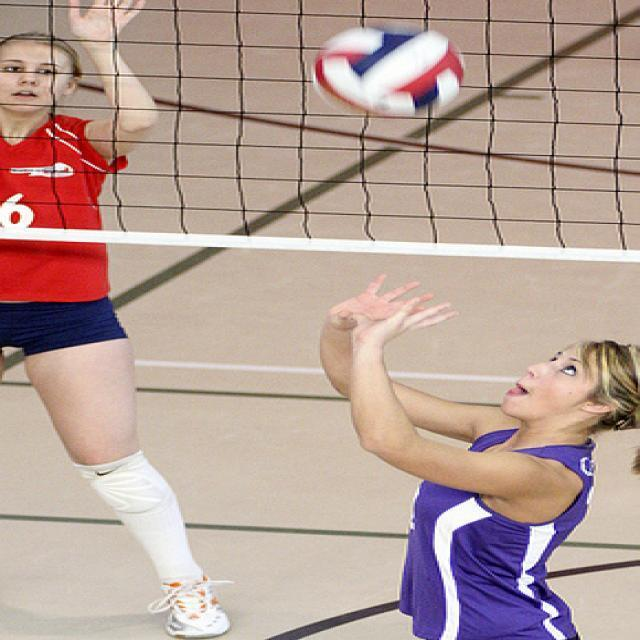volleyball: (312, 23, 466, 118)
